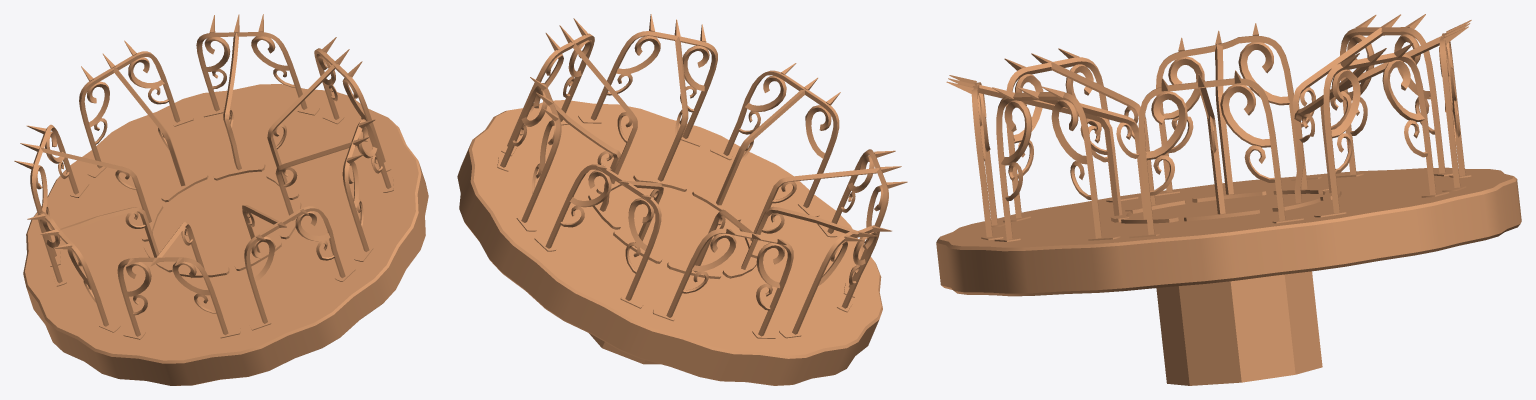
The model's file is SM_spinnyRide.fbx.
The picture shows the model from 3 angles, left to right: view 1: azimuth 30°, elevation 25°; view 2: azimuth 150°, elevation 25°; view 3: azimuth 270°, elevation 25°; orthographic projection. The views are drawn at different scales.
Parts seen in each view (by area): view 1: SM_spinnyRide; view 2: SM_spinnyRide; view 3: SM_spinnyRide.
Boxes of the visible parts, <box> form: SM_spinnyRide: <box>14,14,428,385</box>; SM_spinnyRide: <box>457,14,907,385</box>; SM_spinnyRide: <box>936,14,1521,385</box>.
Size of the model in its own units: 6.54 by 4.71 by 6.48.
